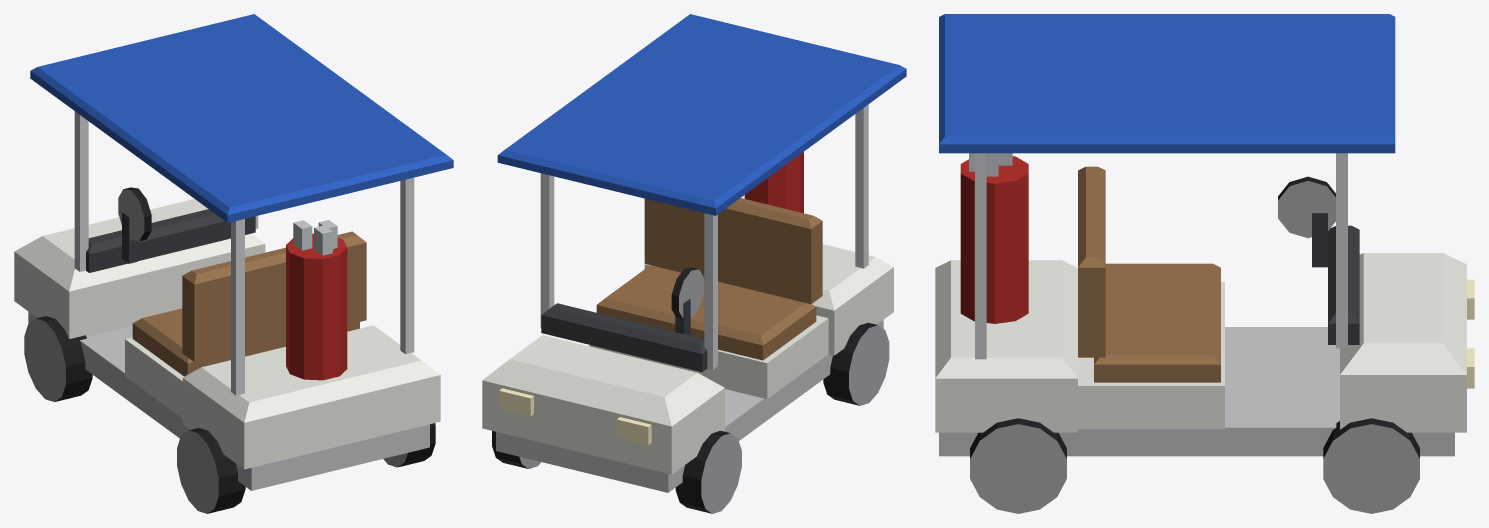
The model's file is cart_blue.glb.
3 views of the same model, side by side, from view 1: azimuth 30°, elevation 25°; view 2: azimuth 150°, elevation 25°; view 3: azimuth 270°, elevation 25° (orthographic). The views are drawn at different scales.
Parts seen in each view (by area): view 1: cart_body; view 2: cart_body; view 3: cart_body.
Boxes of the visible parts, left/top/right/bottom form: cart_body: left=14, top=14, right=453, bottom=513; cart_body: left=482, top=14, right=906, bottom=513; cart_body: left=935, top=14, right=1474, bottom=513.
Size of the model in its own units: 1.52 by 2.1 by 2.72.
1 material, 1 textured.
